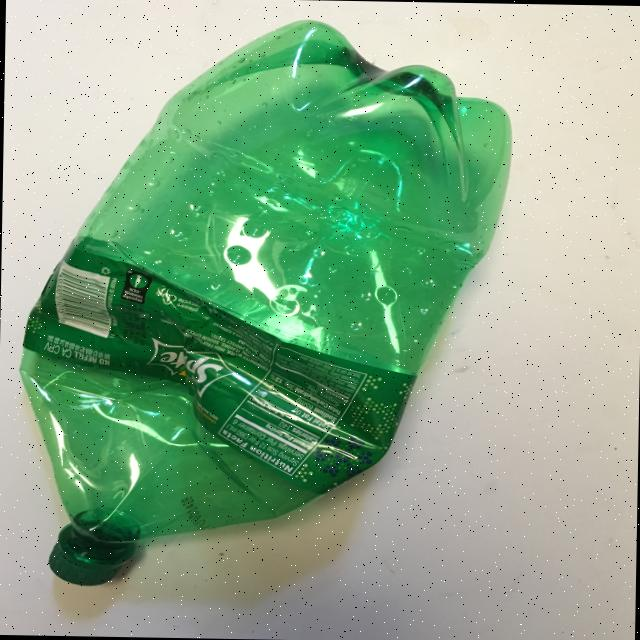plastic: (14, 14, 514, 592)
